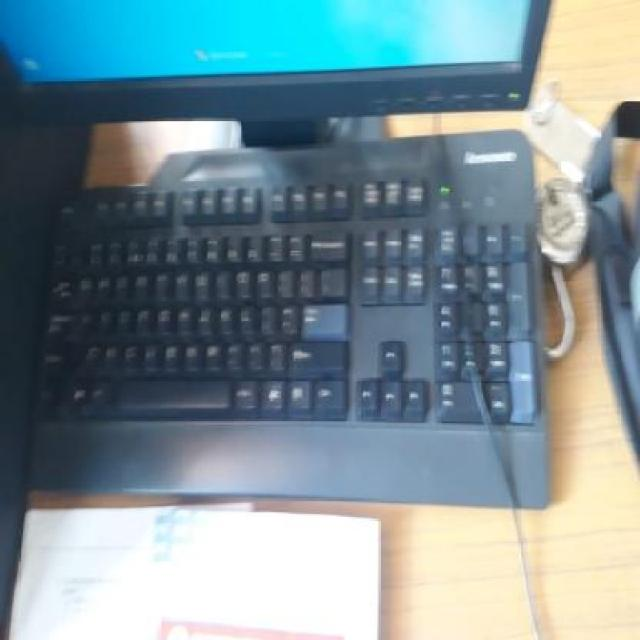keyboard: (19, 175, 555, 508)
